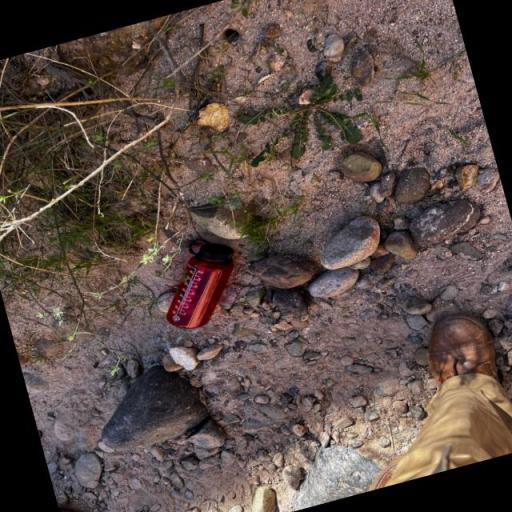bottle: (148, 230, 252, 334)
